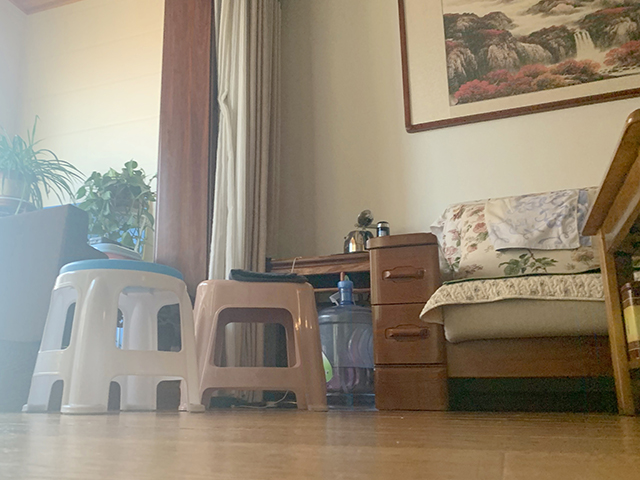sofa: (366, 186, 609, 410)
stool: (21, 257, 204, 415), (178, 278, 331, 413)
table: (580, 108, 640, 420)
